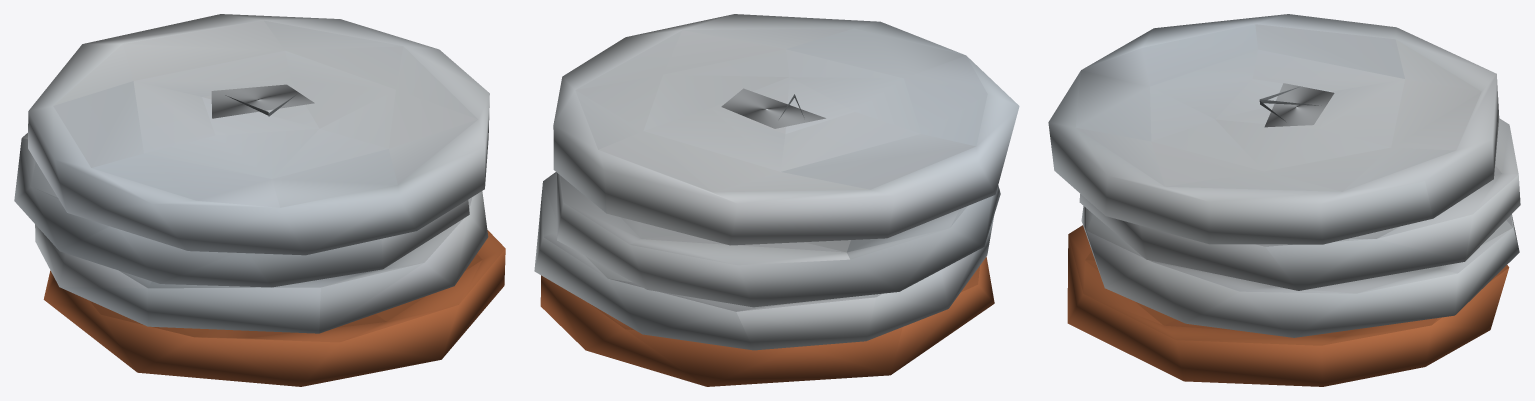
The model's file is grotto_coin_pile_b_lod2.glb.
The picture shows the model from 3 angles, left to right: view 1: azimuth 30°, elevation 25°; view 2: azimuth 150°, elevation 25°; view 3: azimuth 270°, elevation 25°; orthographic projection. The views are drawn at different scales.
Parts seen in each view (by area): view 1: grotto_coin_pile_b.001; view 2: grotto_coin_pile_b.001; view 3: grotto_coin_pile_b.001.
Part boxes in pixels (x1,y1,x2,y2): grotto_coin_pile_b.001: (14, 14, 505, 386); grotto_coin_pile_b.001: (534, 14, 1019, 386); grotto_coin_pile_b.001: (1048, 14, 1520, 386).
Size of the model in its own units: 5.92 by 2.68 by 6.
